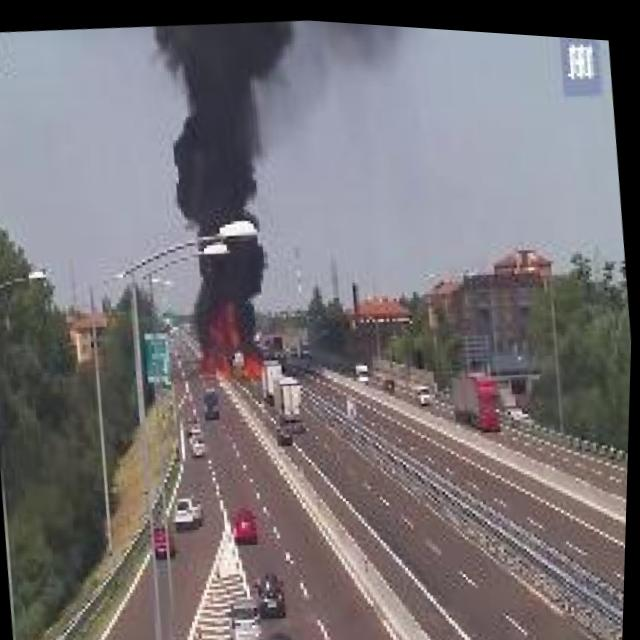fire: (189, 284, 269, 380)
